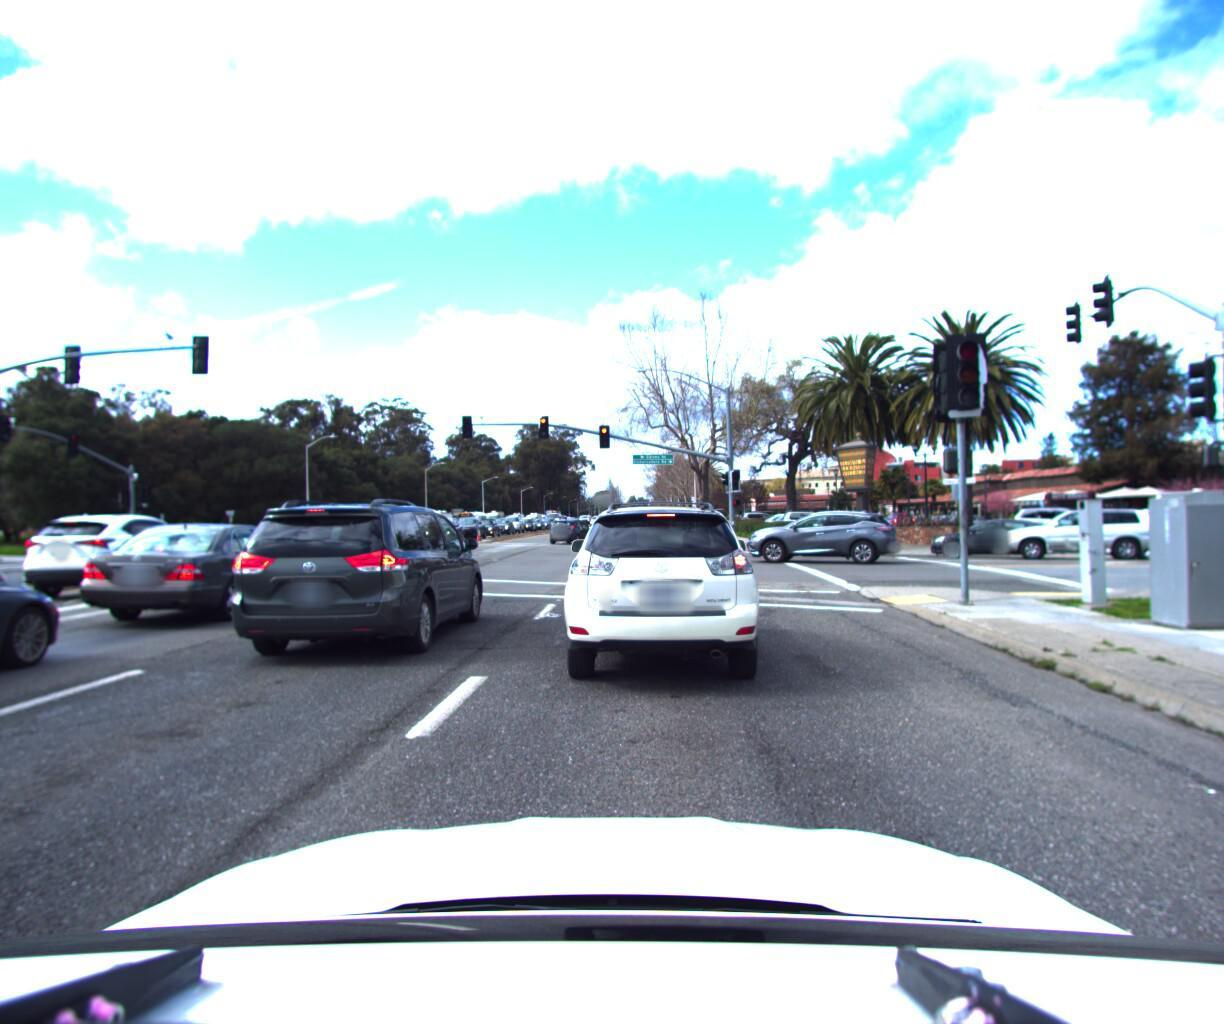car: (223, 496, 499, 670), (554, 491, 775, 701), (72, 522, 331, 638), (10, 515, 230, 611), (0, 528, 75, 788), (995, 497, 1160, 564), (751, 506, 904, 564), (927, 515, 1053, 560), (0, 515, 29, 685), (778, 509, 848, 536), (548, 518, 600, 546), (451, 518, 491, 542), (504, 514, 531, 534)
other_vehicle: (333, 504, 400, 543)
